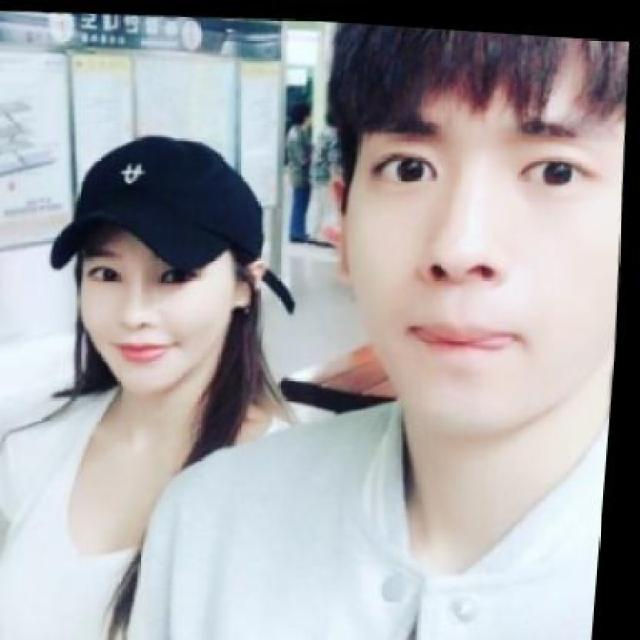hat: (48, 125, 278, 283)
